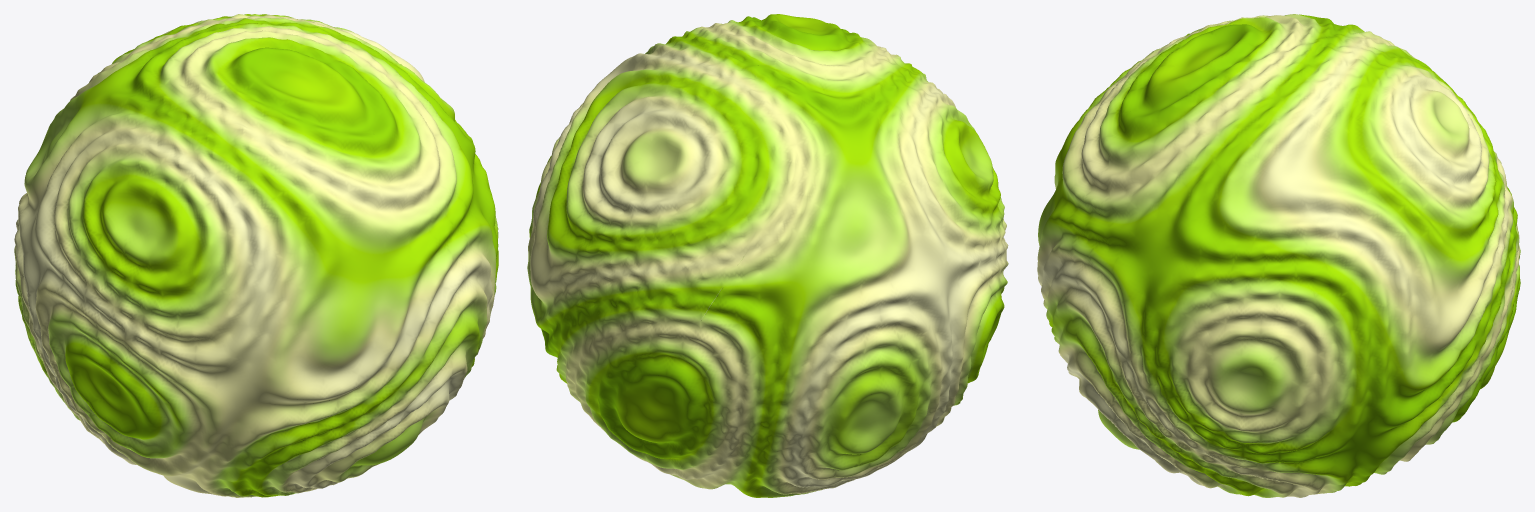
File: lunaCapricornio.glb
3 renders of one model, left to right at view 1: azimuth 30°, elevation 25°; view 2: azimuth 150°, elevation 25°; view 3: azimuth 270°, elevation 25°, orthographic.
Visible parts, largest first — view 1: lunacapricornio; view 2: lunacapricornio; view 3: lunacapricornio.
Boxes of the visible parts, bbox=[...] form: lunacapricornio: bbox=[14, 14, 498, 497]; lunacapricornio: bbox=[527, 14, 1008, 497]; lunacapricornio: bbox=[1037, 14, 1520, 497].
Bounding box in the file's own units: 0.6036 × 0.604 × 0.6009.
Materials: 1 (1 with a texture image).
